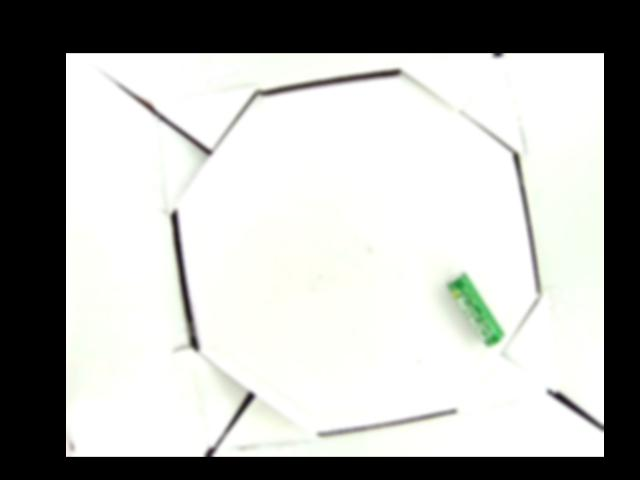Battery: (443, 273, 503, 347)
